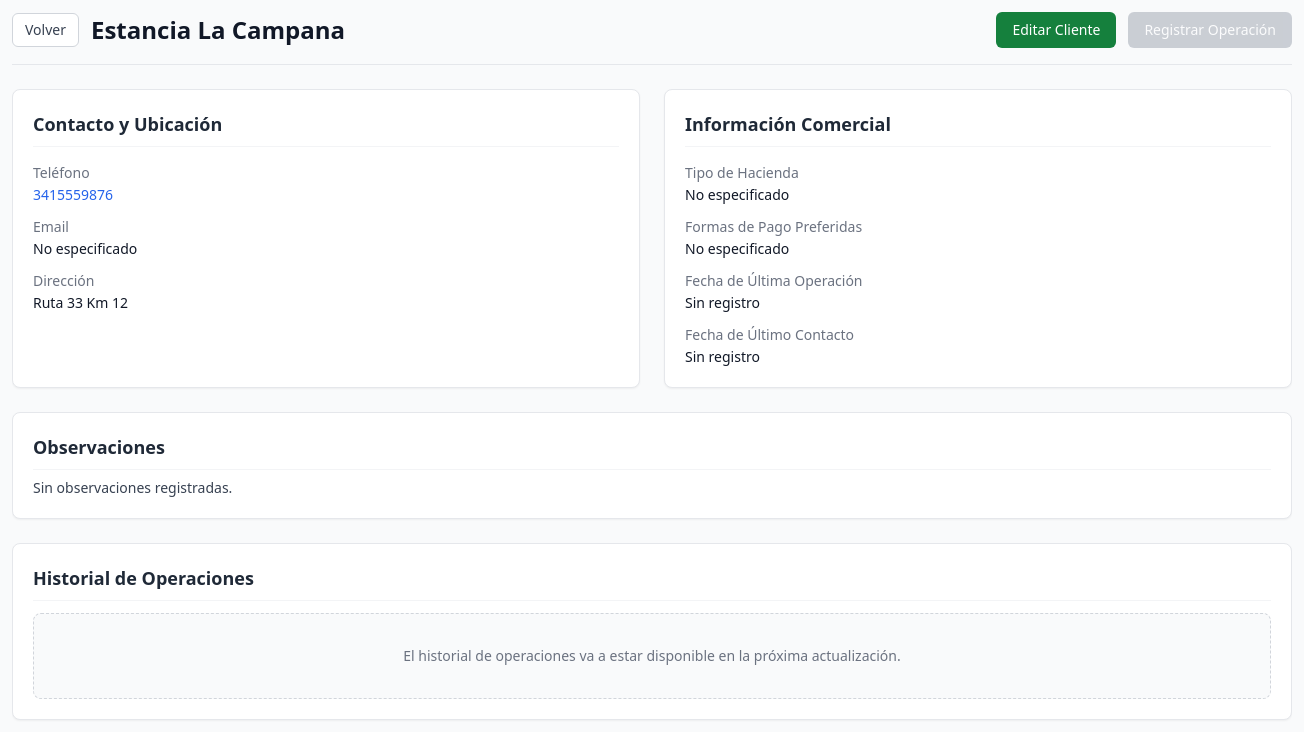
Test: ClientesPage › navigates from ClienteDetail to edit form when clicking "Editar Cliente" with pre-populated data
Click the button "Editar Cliente" at (1056, 30), box x1=996 y1=12 x2=1116 y2=48
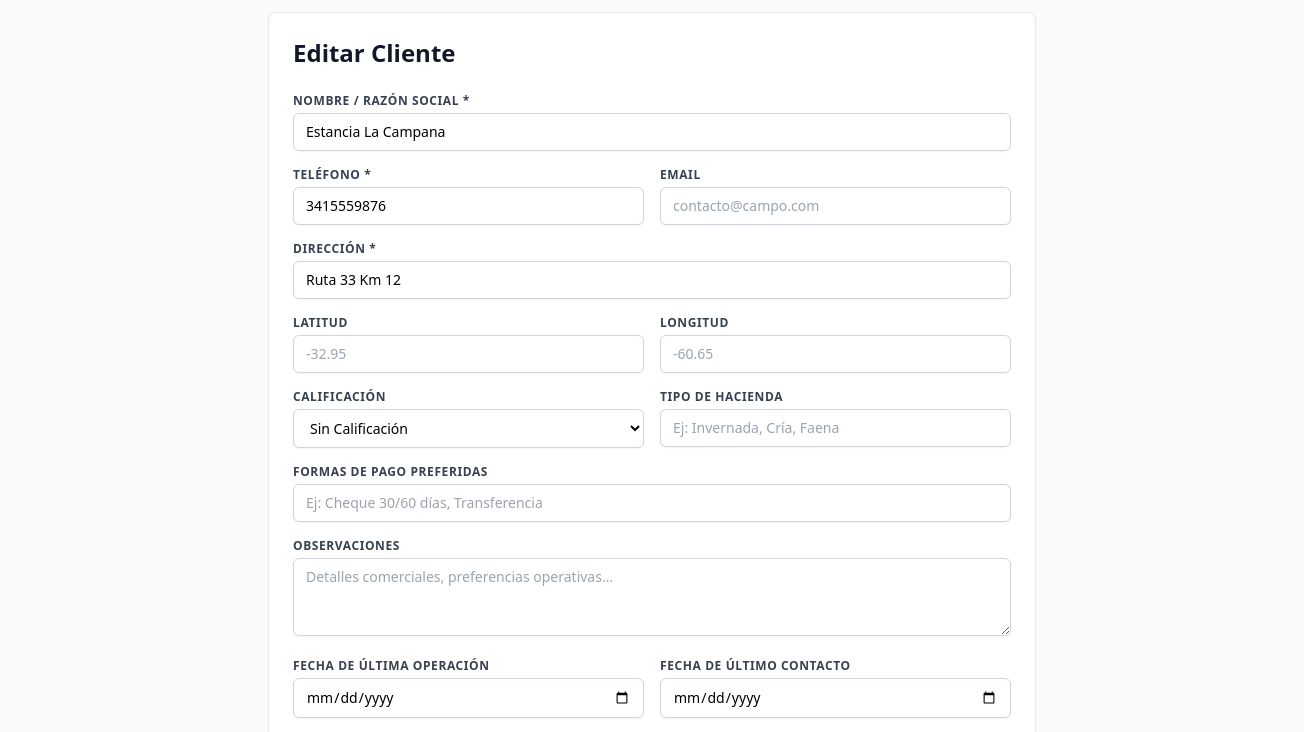
Expected: the heading "Editar Cliente" is shown, x1=293 y1=36 x2=456 y2=69
Expected: the field labelled "Nombre / Razón Social *" holds "Estancia La Campana", x1=293 y1=113 x2=1011 y2=151
Expected: the field labelled "Teléfono *" holds "3415559876", x1=293 y1=187 x2=644 y2=225
